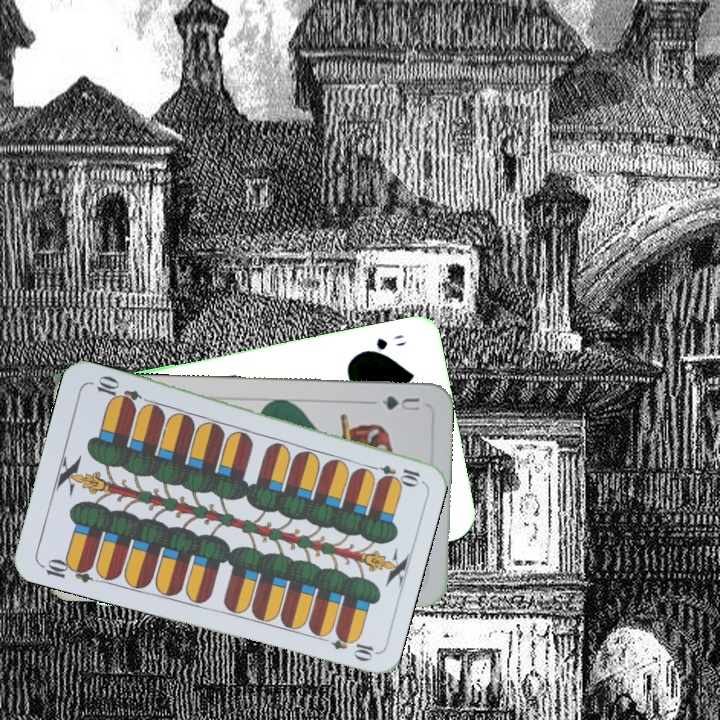E10: (36, 554, 95, 585), (363, 460, 423, 486)
GO: (357, 330, 409, 357)
GU: (378, 392, 424, 413)
